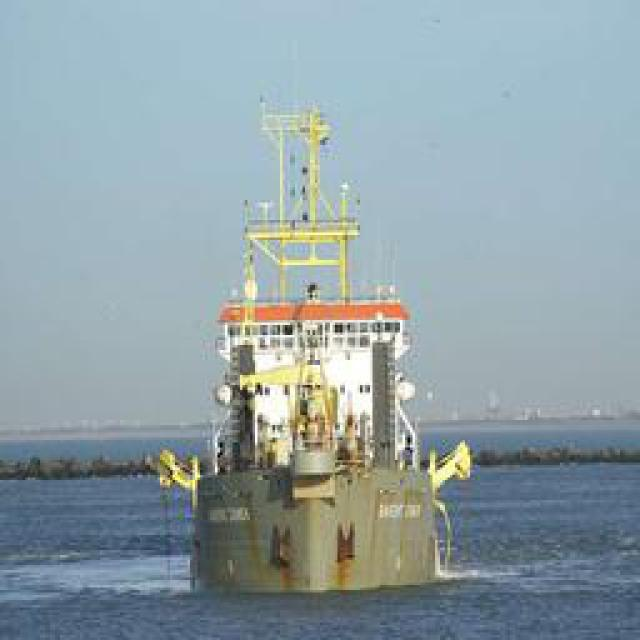Ship: (180, 89, 483, 602)
